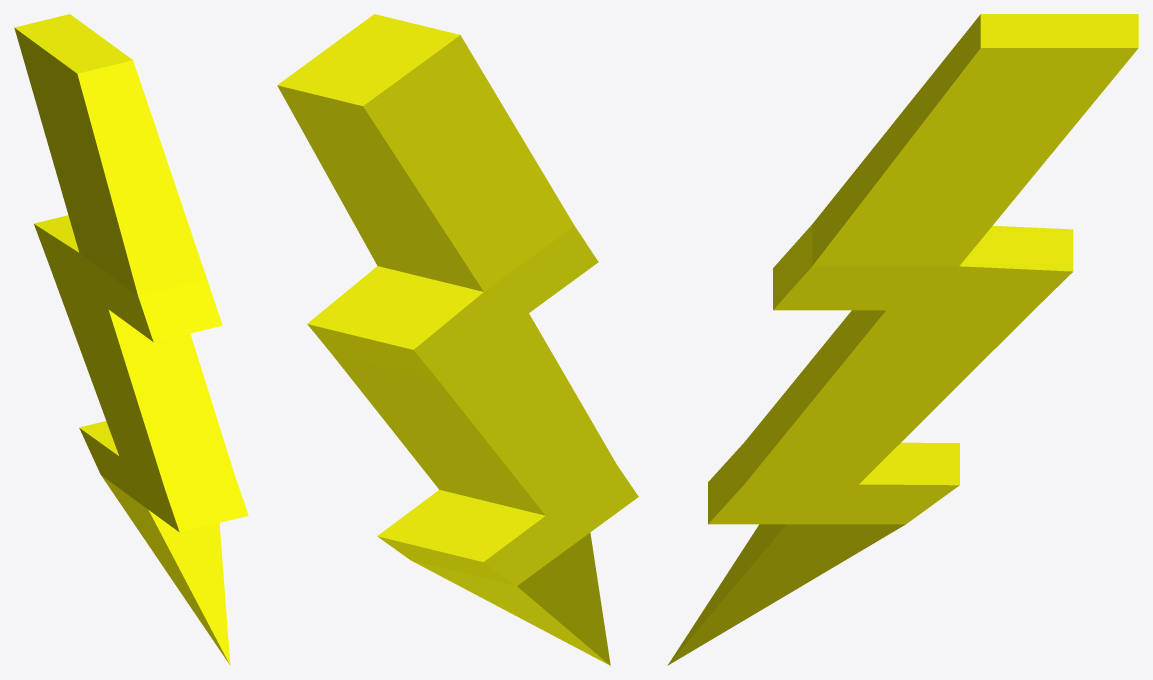
File: lightning_bolt.fbx
3 renders of one model, left to right at view 1: azimuth 30°, elevation 25°; view 2: azimuth 150°, elevation 25°; view 3: azimuth 270°, elevation 25°, orthographic. The views are drawn at different scales.
Visible parts, largest first — view 1: Cube; view 2: Cube; view 3: Cube.
Part boxes in pixels (bbox=[...]): Cube: bbox=[14, 14, 248, 665]; Cube: bbox=[277, 14, 638, 665]; Cube: bbox=[667, 14, 1138, 665].
Bounding box in the file's own units: 1.04 × 7.29 × 4.9.
